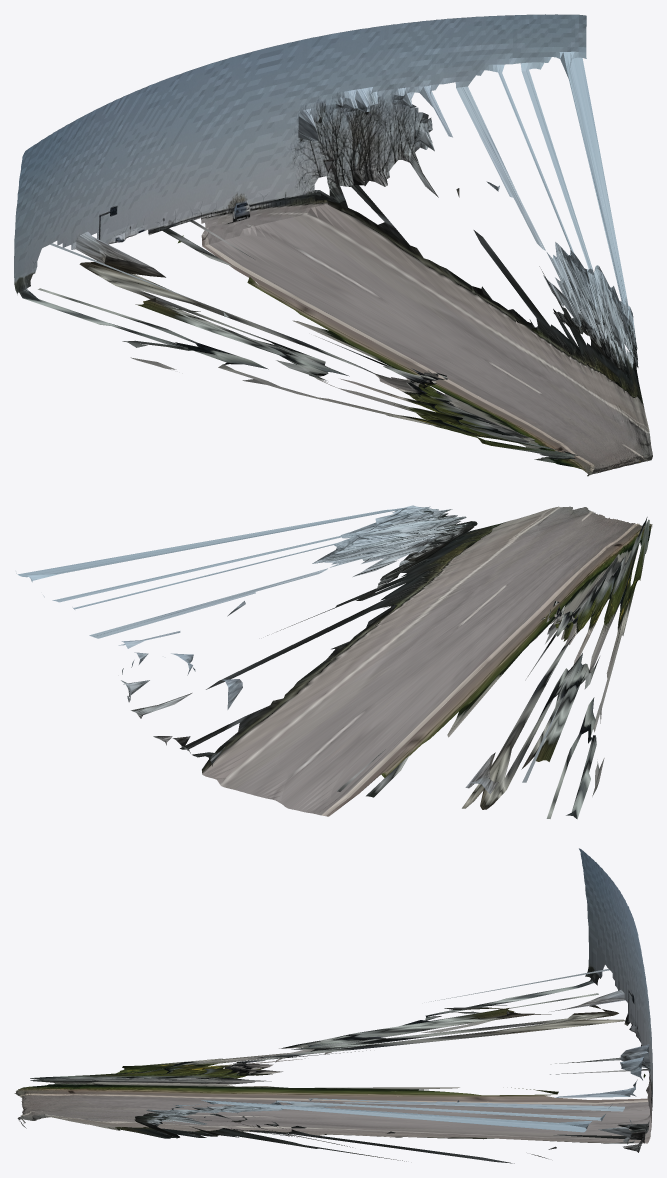
3 views of the same model, one above another, from view 1: azimuth 30°, elevation 25°; view 2: azimuth 150°, elevation 25°; view 3: azimuth 270°, elevation 25° (orthographic). The views are drawn at different scales.
Parts seen in each view (by area): view 1: defaultobject; view 2: defaultobject; view 3: defaultobject.
Part boxes in pixels (x1,y1,x2,y2): defaultobject: [14, 14, 652, 476]; defaultobject: [16, 505, 652, 819]; defaultobject: [14, 848, 652, 1163].
Bounding box in the file's own units: 41 × 13.02 × 44.63.
1 material, 1 textured.
